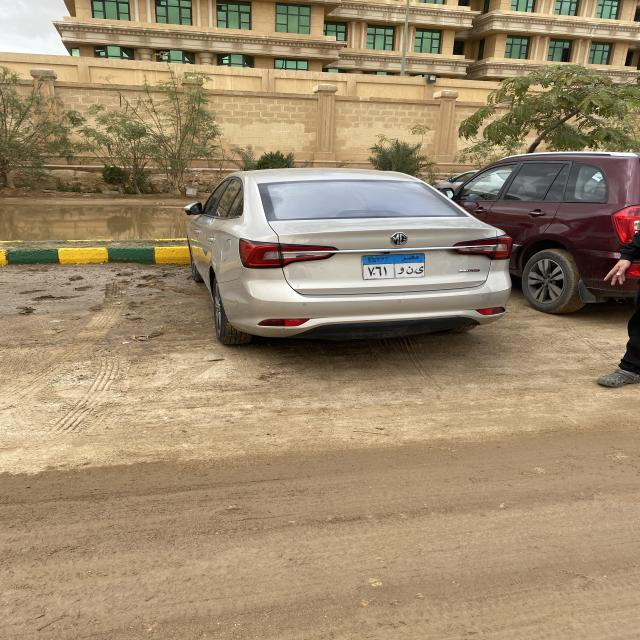License Plate: (363, 254, 425, 280)
